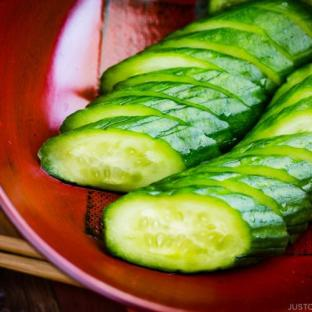Cucumber: (55, 0, 310, 167), (104, 100, 311, 272), (39, 116, 219, 191), (61, 96, 259, 147), (147, 172, 310, 233), (147, 28, 293, 85), (168, 4, 311, 60), (100, 47, 274, 93), (115, 68, 265, 106), (245, 97, 311, 142), (60, 104, 163, 132), (271, 64, 311, 105)
